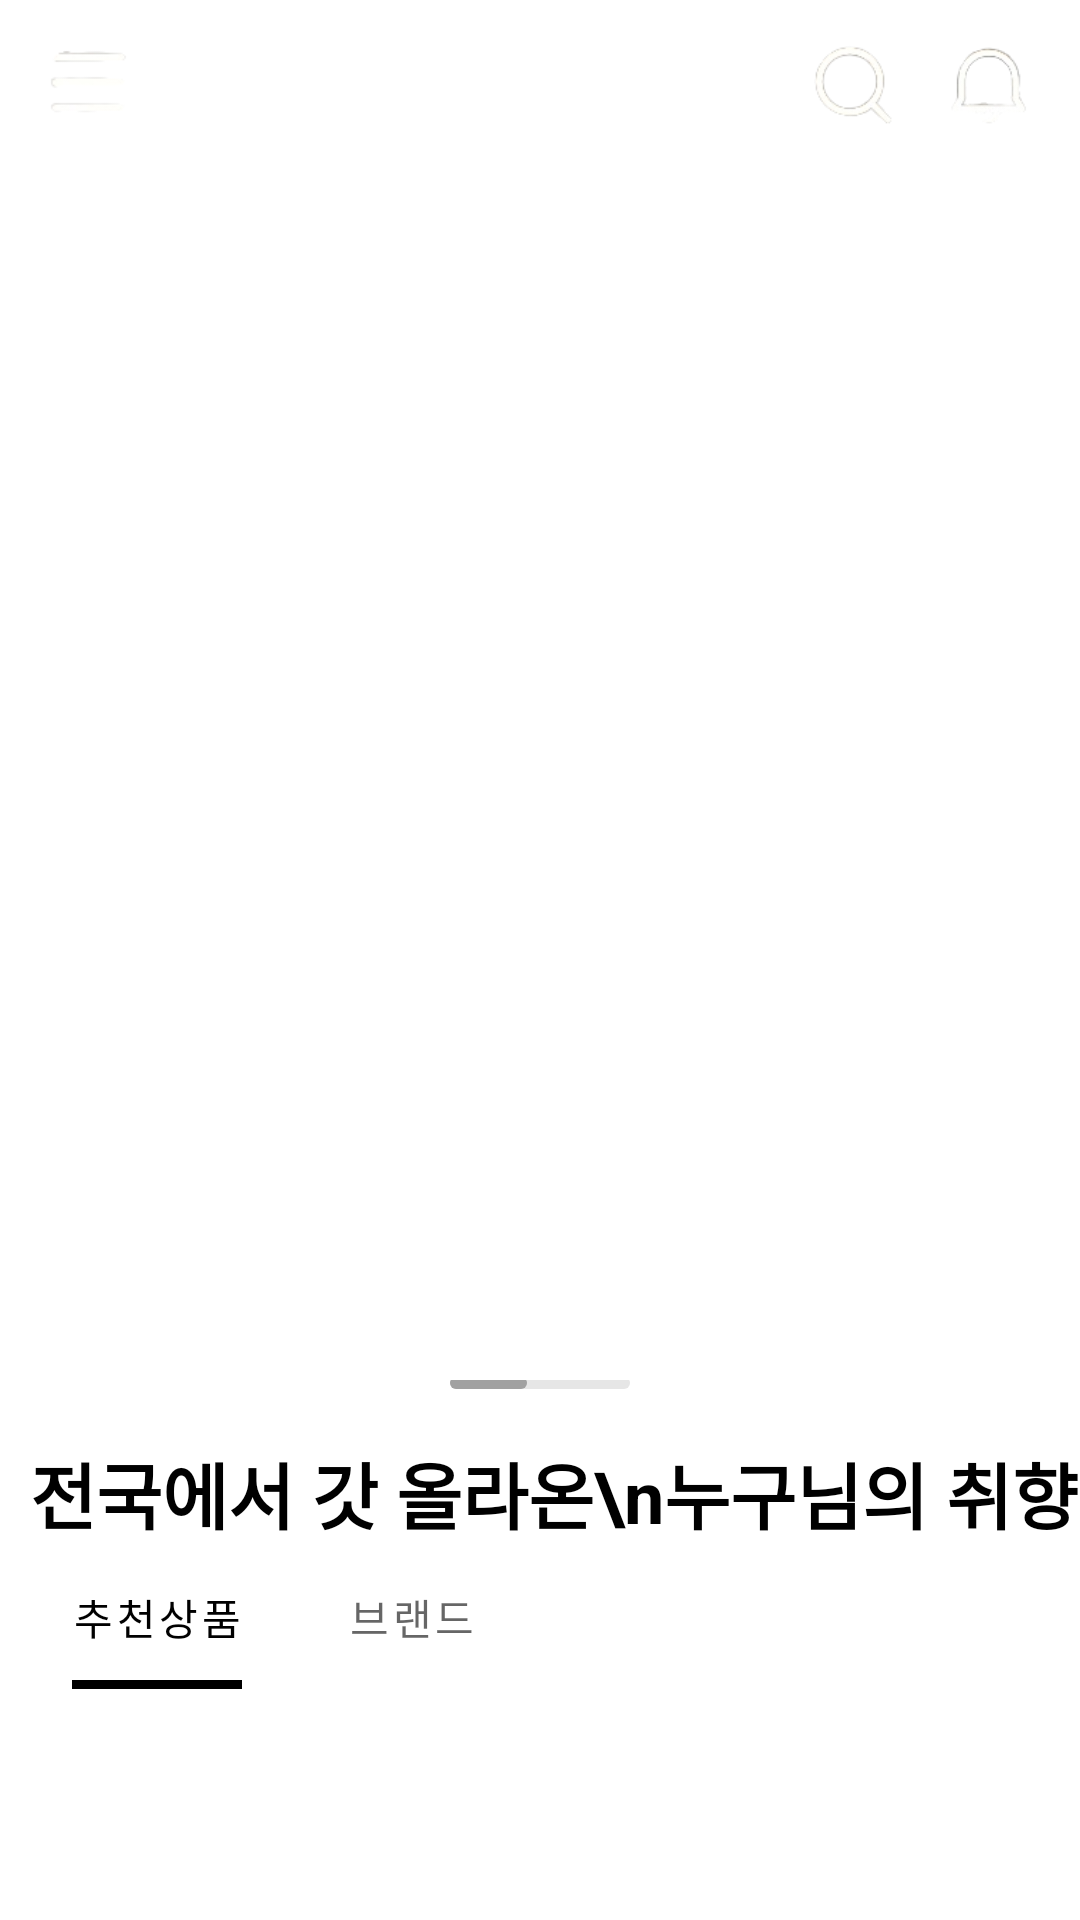

Screen size 1080 x 1920. Icon name, then its box in pixels as box=[x1, y1, x2, y2]:
home alarm: box=[957, 48, 1023, 106]
home search: box=[816, 47, 888, 123]
